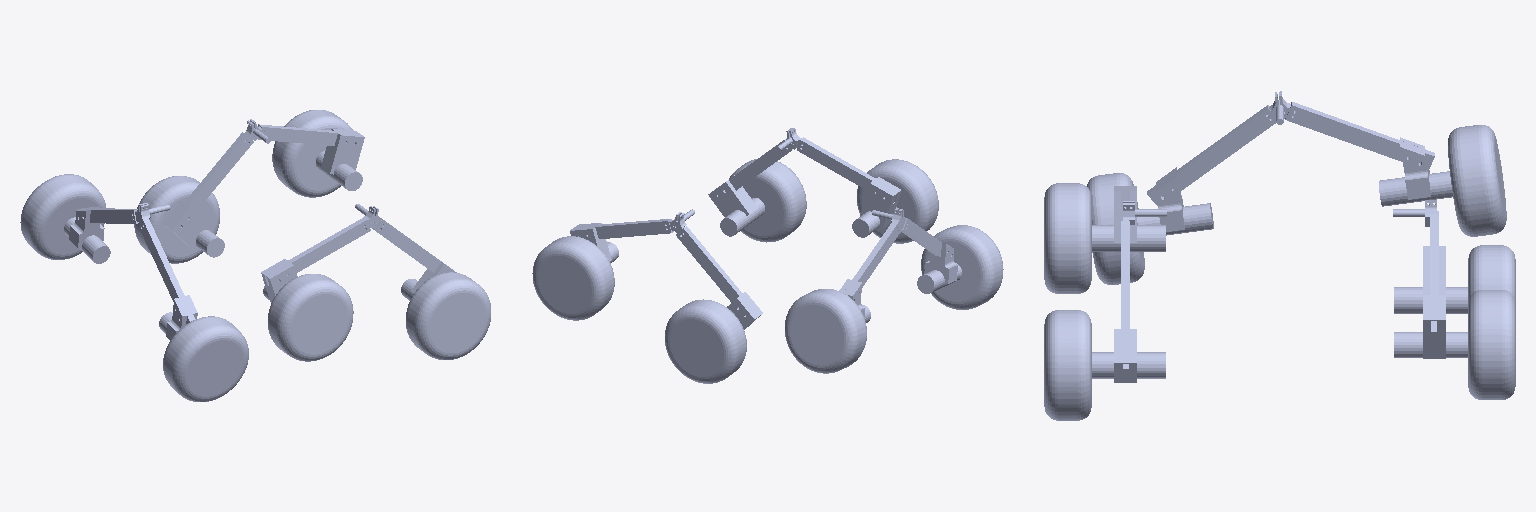
robot.urdf — chassis_24:
<?xml version="1.0" encoding="utf-8"?>
<!-- This URDF was automatically created by SolidWorks to URDF Exporter! Originally created by [author] ([email redacted]) 
     Commit Version: 1.6.0-4-g7f85cfe  Build Version: 1.6.7995.38578
     For more information, please see http://wiki.ros.org/sw_urdf_exporter -->
<robot
  name="chassis_24">

    <gazebo reference="base_link">
        <material>Gazebo/Green</material>
    </gazebo>

    <gazebo reference="chassis_link">
        <material>Gazebo/Blue</material>
    </gazebo>

    <gazebo reference="back_bogie_link">
        <material>Gazebo/Orange</material>
    </gazebo>


  <link
    name="base_link">
    <!-- <inertial>
      <origin
        xyz="0.281480000000005 -9.85322934354826E-16 -0.0750000000000002"
        rpy="0 0 0" />
      <mass
        value="0.422056388303514" />
      <inertia
        ixx="0.0107034388160777"
        ixy="-5.49167690025689E-18"
        ixz="-5.48031539083111E-19"
        iyy="0.00090036321463201"
        iyz="3.63602359362936E-19"
        izz="0.0098048341697303" />
    </inertial>
    <visual>
      <origin
        xyz="0 0 0"
        rpy="0 0 0" />
      <geometry>
        <mesh
          filename="package://rover_description/meshes/base_link.STL" />
      </geometry>
      <material
        name="">
        <color
          rgba="0.792156862745098 0.819607843137255 0.933333333333333 1" />
      </material>
    </visual>
    <collision>
      <origin
        xyz="0 0 0"
        rpy="0 0 0" />
      <geometry>
        <mesh
          filename="package://rover_description/meshes/base_link.STL" />
      </geometry>
    </collision> -->
  </link>
  <link
    name="chassis_link">
    <inertial>
      <origin
        xyz="-0.00699772914672339 -0.000493988226808267 -0.0760612416617474"
        rpy="0 0 0" />
      <mass
        value="6.00267889513792" />
      <inertia
        ixx="0.083640189086461"
        ixy="9.73287606877216E-08"
        ixz="-2.81094847222989E-08"
        iyy="0.0834818888944717"
        iyz="-2.26303252326449E-05"
        izz="0.156921606709253" />
    </inertial>
    <visual>
      <origin
        xyz="0 0 0"
        rpy="0 0 0" />
      <geometry>
        <mesh
          filename="package://rover_description/meshes/chassis_link.STL" />
      </geometry>
      <material
        name="">
        <color
          rgba="0.792156862745098 0.819607843137255 0.933333333333333 1" />
      </material>
    </visual>
    <collision>
      <origin
        xyz="0 0 0"
        rpy="0 0 0" />
      <geometry>
        <mesh
          filename="package://rover_description/meshes/chassis_link.STL" />
      </geometry>
    </collision>
  </link>
  <joint
    name="chassis_joint"
    type="fixed">
    <origin
      xyz="0 0 0"
      rpy="0 0 0" />
    <parent
      link="base_link" />
    <child
      link="chassis_link" />
    <axis
      xyz="0 0 0" />
  </joint>
  <link
    name="back_bogie_link">
    <inertial>
      <origin
        xyz="-7.25827789399558E-08 0.174260110659829 -0.00696236307424686"
        rpy="0 0 0" />
      <mass
        value="1.93502364267459" />
      <inertia
        ixx="0.00229542248691092"
        ixy="-3.03037924544473E-09"
        ixz="7.58017790753532E-19"
        iyy="0.00623201882648166"
        iyz="-1.25455581601917E-19"
        izz="0.00766650770807597" />
    </inertial>
    <visual>
      <origin
        xyz="0 0 0"
        rpy="0 0 0" />
      <geometry>
        <mesh
          filename="package://rover_description/meshes/back_bogie_link.STL" />
      </geometry>
      <material
        name="">
        <color
          rgba="0.792156862745098 0.819607843137255 0.933333333333333 1" />
      </material>
    </visual>
    <collision>
      <origin
        xyz="0 0 0"
        rpy="0 0 0" />
      <geometry>
        <mesh
          filename="package://rover_description/meshes/back_bogie_link.STL" />
      </geometry>
    </collision>
  </link>
  <joint
    name="back_bogie_joint"
    type="revolute">
    <origin
      xyz="-0.3638 -4.51E-05 -0.070631"
      rpy="-1.5708 -0.14612 1.5708" />
    <parent
      link="chassis_link" />
    <child
      link="back_bogie_link" />
    <axis
      xyz="0 0 1" />
    <limit
      lower="-1.4"
      upper="1.4"
      effort="5"
      velocity="5" />
  </joint>
  <link
    name="back_left_wheel_link">
    <inertial>
      <origin
        xyz="-2.77555756156289E-17 -5.55111512312578E-17 0.0508"
        rpy="0 0 0" />
      <mass
        value="4.27542162637791" />
      <inertia
        ixx="0.0178347294732951"
        ixy="-1.08937077959432E-19"
        ixz="7.62806346074387E-19"
        iyy="0.0178347294732951"
        iyz="0.001"
        izz="0.0289167430570026" />
    </inertial>
    <visual>
      <origin
        xyz="0 0 0"
        rpy="0 0 0" />
      <geometry>
        <mesh
          filename="package://rover_description/meshes/back_left_wheel_link.STL" />
      </geometry>
      <material
        name="">
        <color
          rgba="0.792156862745098 0.819607843137255 0.933333333333333 1" />
      </material>
    </visual>
    <collision>
      <origin
        xyz="0 0 0"
        rpy="0 0 0" />
      <geometry>
        <mesh
          filename="package://rover_description/meshes/back_left_wheel_link.STL" />
      </geometry>
    </collision>
  </link>
  <joint
    name="back_left_wheel_joint"
    type="continuous">
    <origin
      xyz="0.34327 0.24109 -0.00635"
      rpy="0 1.5708 0" />
    <parent
      link="back_bogie_link" />
    <child
      link="back_left_wheel_link" />
    <axis
      xyz="0 0 1" />
  </joint>
  <link
    name="back_right_wheel_link">
    <inertial>
      <origin
        xyz="0 2.77555756156289E-17 0.0508"
        rpy="0 0 0" />
      <mass
        value="4.27542162637791" />
      <inertia
        ixx="0.0178347294732951"
        ixy="2.28071735391806E-20"
        ixz="6.12456854997538E-19"
        iyy="0.0178347294732951"
        iyz="1.73472347597681E-18"
        izz="0.0289167430570026" />
    </inertial>
    <visual>
      <origin
        xyz="0 0 0"
        rpy="0 0 0" />
      <geometry>
        <mesh
          filename="package://rover_description/meshes/back_right_wheel_link.STL" />
      </geometry>
      <material
        name="">
        <color
          rgba="0.792156862745098 0.819607843137255 0.933333333333333 1" />
      </material>
    </visual>
    <collision>
      <origin
        xyz="0 0 0"
        rpy="0 0 0" />
      <geometry>
        <mesh
          filename="package://rover_description/meshes/back_right_wheel_link.STL" />
      </geometry>
    </collision>
  </link>
  <joint
    name="back_right_wheel_joint"
    type="continuous">
    <origin
      xyz="-0.34327 0.24109 -0.00635"
      rpy="3.1416 1.5708 0" />
    <parent
      link="back_bogie_link" />
    <child
      link="back_right_wheel_link" />
    <axis
      xyz="0 0 1" />
  </joint>
  <link
    name="left_bogie_link">
    <inertial>
      <origin
        xyz="-1.54984377143119E-05 0.182050794641678 -0.00837596251404105"
        rpy="0 0 0" />
      <mass
        value="3.24500143198311" />
      <inertia
        ixx="0.005056643655294"
        ixy="-8.9378372078344E-07"
        ixz="1.10820141993538E-18"
        iyy="0.00747448697437576"
        iyz="1.67485869207298E-19"
        izz="0.0081282264814984" />
    </inertial>
    <visual>
      <origin
        xyz="0 0 0"
        rpy="0 0 0" />
      <geometry>
        <mesh
          filename="package://rover_description/meshes/left_bogie_link.STL" />
      </geometry>
      <material
        name="">
        <color
          rgba="0.792156862745098 0.819607843137255 0.933333333333333 1" />
      </material>
    </visual>
    <collision>
      <origin
        xyz="0 0 0"
        rpy="0 0 0" />
      <geometry>
        <mesh
          filename="package://rover_description/meshes/left_bogie_link.STL" />
      </geometry>
    </collision>
  </link>
  <joint
    name="left_bogie_joint"
    type="revolute">
    <origin
      xyz="0.18553 0.33879 -0.0755"
      rpy="-1.5708 -0.22079 0" />
    <parent
      link="chassis_link" />
    <child
      link="left_bogie_link" />
    <axis
      xyz="0 0 1" />
    <limit
      lower="-1.5"
      upper="1.5"
      effort="5"
      velocity="5" />
  </joint>
  <link
    name="left_front_wheel_link">
    <inertial>
      <origin
        xyz="0 1.3878E-17 0.0508"
        rpy="0 0 0" />
      <mass
        value="4.2754" />
      <inertia
        ixx="0.017835"
        ixy="-4.5898E-19"
        ixz="-1.231E-17"
        iyy="0.017835"
        iyz="5.6373E-19"
        izz="0.028917" />
    </inertial>
    <visual>
      <origin
        xyz="0 0 0"
        rpy="0 0 0" />
      <geometry>
        <mesh
          filename="package://rover_description/meshes/left_front_wheel_link.STL" />
      </geometry>
      <material
        name="">
        <color
          rgba="0.79216 0.81961 0.93333 1" />
      </material>
    </visual>
    <collision>
      <origin
        xyz="0 0 0"
        rpy="0 0 0" />
      <geometry>
        <mesh
          filename="package://rover_description/meshes/left_front_wheel_link.STL" />
      </geometry>
    </collision>
  </link>
  <joint
    name="left_front_wheel_joint"
    type="continuous">
    <origin
      xyz="0.22348 0.24192 0.06705"
      rpy="0 0 0.22079" />
    <parent
      link="left_bogie_link" />
    <child
      link="left_front_wheel_link" />
    <axis
      xyz="0 0 1" />
    <!-- <limit
      lower="-1.5"
      upper="1.5"
      effort="5"
      velocity="5" /> -->
  </joint>
  <link
    name="left_mid_wheel_link">
    <inertial>
      <origin
        xyz="-2.77555756156289E-17 0 0.0508"
        rpy="0 0 0" />
      <mass
        value="4.27542162637791" />
      <inertia
        ixx="0.0178347294732951"
        ixy="-4.00883753276516E-19"
        ixz="-8.20366047356053E-18"
        iyy="0.0178347294732951"
        iyz="1.56646894184784E-18"
        izz="0.0289167430570026" />
    </inertial>
    <visual>
      <origin
        xyz="0 0 0"
        rpy="0 0 0" />
      <geometry>
        <mesh
          filename="package://rover_description/meshes/left_mid_wheel_link.STL" />
      </geometry>
      <material
        name="">
        <color
          rgba="0.792156862745098 0.819607843137255 0.933333333333333 1" />
      </material>
    </visual>
    <collision>
      <origin
        xyz="0 0 0"
        rpy="0 0 0" />
      <geometry>
        <mesh
          filename="package://rover_description/meshes/left_mid_wheel_link.STL" />
      </geometry>
    </collision>
  </link>
  <joint
    name="left_mid_wheel_joint"
    type="continuous">
    <origin
      xyz="-0.22348 0.24192 0.06705"
      rpy="0 0 0.22079" />
    <parent
      link="left_bogie_link" />
    <child
      link="left_mid_wheel_link" />
    <axis
      xyz="0 0 1" />
    <limit
      lower="-1.5"
      upper="1"
      effort="5"
      velocity="5" />
  </joint>
  <link
    name="right_bogie_link">
    <inertial>
      <origin
        xyz="-1.54984377143119E-05 0.182050794641678 -0.0083759625140411"
        rpy="0 0 0" />
      <mass
        value="3.2450014319831" />
      <inertia
        ixx="0.005056643655294"
        ixy="-8.93783720780405E-07"
        ixz="1.14069009289248E-18"
        iyy="0.00747448697437575"
        iyz="7.82677189295528E-20"
        izz="0.00812822648149838" />
    </inertial>
    <visual>
      <origin
        xyz="0 0 0"
        rpy="0 0 0" />
      <geometry>
        <mesh
          filename="package://rover_description/meshes/right_bogie_link.STL" />
      </geometry>
      <material
        name="">
        <color
          rgba="0.792156862745098 0.819607843137255 0.933333333333333 1" />
      </material>
    </visual>
    <collision>
      <origin
        xyz="0 0 0"
        rpy="0 0 0" />
      <geometry>
        <mesh
          filename="package://rover_description/meshes/right_bogie_link.STL" />
      </geometry>
    </collision>
  </link>
  <joint
    name="right_bogie_joint"
    type="revolute">
    <origin
      xyz="0.18544 -0.33878 -0.07549"
      rpy="-1.5708 -0.22079 3.1416" />
    <parent
      link="chassis_link" />
    <child
      link="right_bogie_link" />
    <axis
      xyz="0 0 1" />
    <limit
      lower="-1.5"
      upper="1.5"
      effort="5"
      velocity="5" />
  </joint>
  <link
    name="right_front_wheel_link">
    <inertial>
      <origin
        xyz="1.11022302462516E-16 0 0.0508000000000001"
        rpy="0 0 0" />
      <mass
        value="4.27542162637791" />
      <inertia
        ixx="0.0178347294732951"
        ixy="1.7347234759768E-18"
        ixz="7.43332005281035E-18"
        iyy="0.0178347294732951"
        iyz="4.51025868803808E-18"
        izz="0.0289167430570026" />
    </inertial>
    <visual>
      <origin
        xyz="0 0 0"
        rpy="0 0 0" />
      <geometry>
        <mesh
          filename="package://rover_description/meshes/right_front_wheel_link.STL" />
      </geometry>
      <material
        name="">
        <color
          rgba="0.792156862745098 0.819607843137255 0.933333333333333 1" />
      </material>
    </visual>
    <collision>
      <origin
        xyz="0 0 0"
        rpy="0 0 0" />
      <geometry>
        <mesh
          filename="package://rover_description/meshes/right_front_wheel_link.STL" />
      </geometry>
    </collision>
  </link>
  <joint
    name="right_front_wheel_joint"
    type="continuous">
    <origin
      xyz="-0.22348 0.24192 0.06705"
      rpy="0 0 2.618" />
    <parent
      link="right_bogie_link" />
    <child
      link="right_front_wheel_link" />
    <axis
      xyz="0 0 1" />
  </joint>
  <link
    name="right_mid_wheel_link">
    <inertial>
      <origin
        xyz="4.5102810375397E-17 -2.77555756156289E-17 0.0508000000000002"
        rpy="0 0 0" />
      <mass
        value="4.27542162637791" />
      <inertia
        ixx="0.0178347294732951"
        ixy="-2.16840434497102E-18"
        ixz="1.04477411869742E-17"
        iyy="0.0178347294732951"
        iyz="-3.12590163345014E-18"
        izz="0.0289167430570026" />
    </inertial>
    <visual>
      <origin
        xyz="0 0 0"
        rpy="0 0 0" />
      <geometry>
        <mesh
          filename="package://rover_description/meshes/right_mid_wheel_link.STL" />
      </geometry>
      <material
        name="">
        <color
          rgba="0.792156862745098 0.819607843137255 0.933333333333333 1" />
      </material>
    </visual>
    <collision>
      <origin
        xyz="0 0 0"
        rpy="0 0 0" />
      <geometry>
        <mesh
          filename="package://rover_description/meshes/right_mid_wheel_link.STL" />
      </geometry>
    </collision>
  </link>
  <joint
    name="right_mid_wheel_joint"
    type="continuous">
    <origin
      xyz="0.22348 0.24192 0.06705"
      rpy="0 0 -2.618" />
    <parent
      link="right_bogie_link" />
    <child
      link="right_mid_wheel_link" />
    <axis
      xyz="0 0 1" />
  </joint>
</robot>

--- What the picture shows (computed from the rendered views, not written in the file) ---
The picture shows the robot from 3 angles, left to right: view 1: azimuth 30°, elevation 25°; view 2: azimuth 150°, elevation 25°; view 3: azimuth 270°, elevation 25°; orthographic projection.
Model chassis_24 with 11 links and 10 joints (3 revolute, 6 continuous, 1 fixed), rooted at base_link, posed every joint at zero.
Links seen in each view (by area): view 1: left_bogie_link, right_mid_wheel_link, right_front_wheel_link, back_right_wheel_link, back_bogie_link, back_left_wheel_link, right_bogie_link, left_front_wheel_link, left_mid_wheel_link; view 2: right_bogie_link, back_left_wheel_link, left_front_wheel_link, left_mid_wheel_link, left_bogie_link, back_right_wheel_link, back_bogie_link, right_front_wheel_link, right_mid_wheel_link; view 3: back_bogie_link, right_bogie_link, left_bogie_link, back_left_wheel_link, right_mid_wheel_link, right_front_wheel_link, left_front_wheel_link, back_right_wheel_link, left_mid_wheel_link.
Link boxes in pixels (bbox=[...]): left_bogie_link: bbox=[163, 119, 364, 257]; right_mid_wheel_link: bbox=[268, 274, 353, 361]; right_front_wheel_link: bbox=[406, 272, 490, 359]; back_right_wheel_link: bbox=[163, 316, 248, 401]; back_bogie_link: bbox=[64, 203, 197, 340]; back_left_wheel_link: bbox=[20, 174, 105, 259]; right_bogie_link: bbox=[261, 204, 456, 302]; left_front_wheel_link: bbox=[272, 110, 352, 197]; left_mid_wheel_link: bbox=[134, 176, 219, 263]; right_bogie_link: bbox=[708, 128, 901, 237]; back_left_wheel_link: bbox=[785, 289, 866, 373]; left_front_wheel_link: bbox=[532, 236, 614, 320]; left_mid_wheel_link: bbox=[665, 299, 746, 383]; left_bogie_link: bbox=[570, 209, 762, 329]; back_right_wheel_link: bbox=[921, 225, 1003, 309]; back_bogie_link: bbox=[839, 208, 961, 322]; right_front_wheel_link: bbox=[729, 159, 806, 242]; right_mid_wheel_link: bbox=[857, 159, 938, 243]; back_bogie_link: bbox=[1137, 91, 1452, 235]; right_bogie_link: bbox=[1092, 186, 1166, 382]; left_bogie_link: bbox=[1393, 200, 1467, 358]; back_left_wheel_link: bbox=[1448, 125, 1506, 236]; right_mid_wheel_link: bbox=[1044, 183, 1091, 293]; right_front_wheel_link: bbox=[1044, 310, 1091, 420]; left_front_wheel_link: bbox=[1468, 290, 1515, 399]; back_right_wheel_link: bbox=[1087, 173, 1144, 284]; left_mid_wheel_link: bbox=[1468, 245, 1515, 302].
Bounding box of the posed robot: 1.05 × 1.01 × 0.4459 m (x, y, z).
Meshes: 10 distinct files referenced, 9 mesh visuals loaded (9 binary STL); not drawn: 1 (reference not matched to a file when rendering).